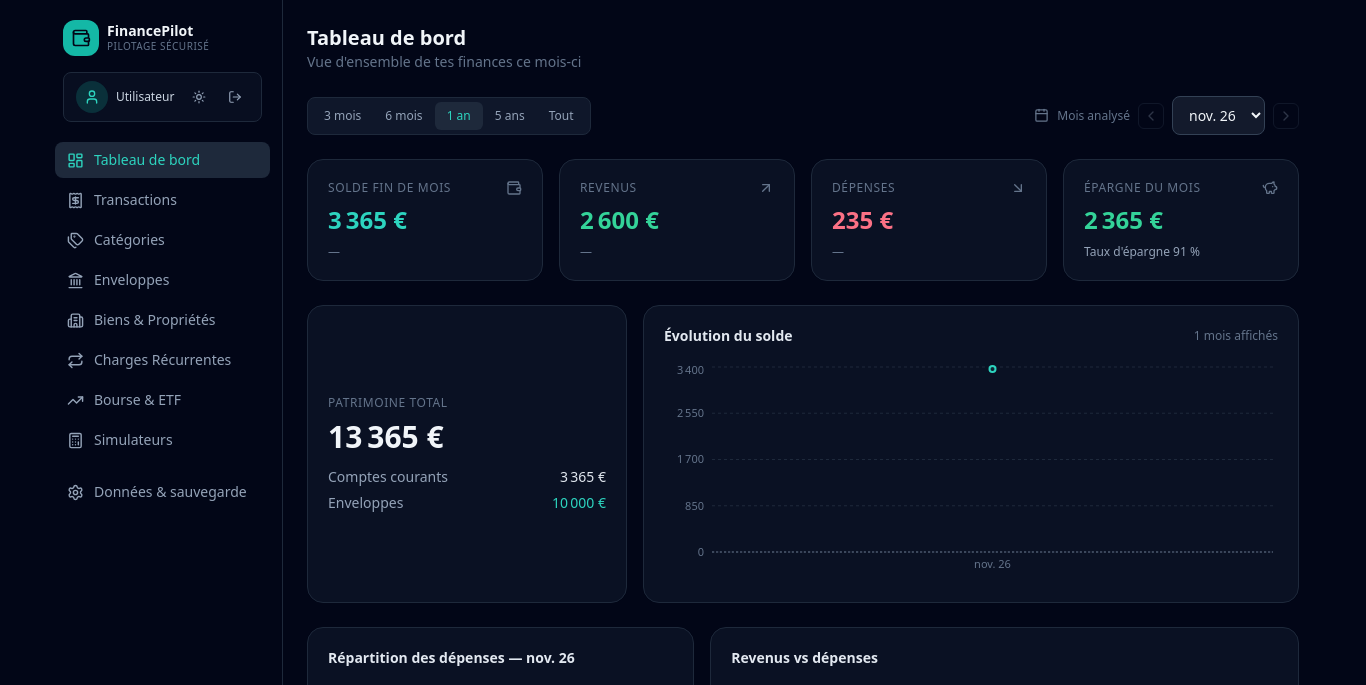
Test: catégories peuplées par l'API (objet au lieu d'un identifiant) › le filtre par catégorie des transactions fonctionne
Step 1. Click the button "Transactions" → coordinates (162, 200), box top-left (55, 182), bottom-right (270, 218)
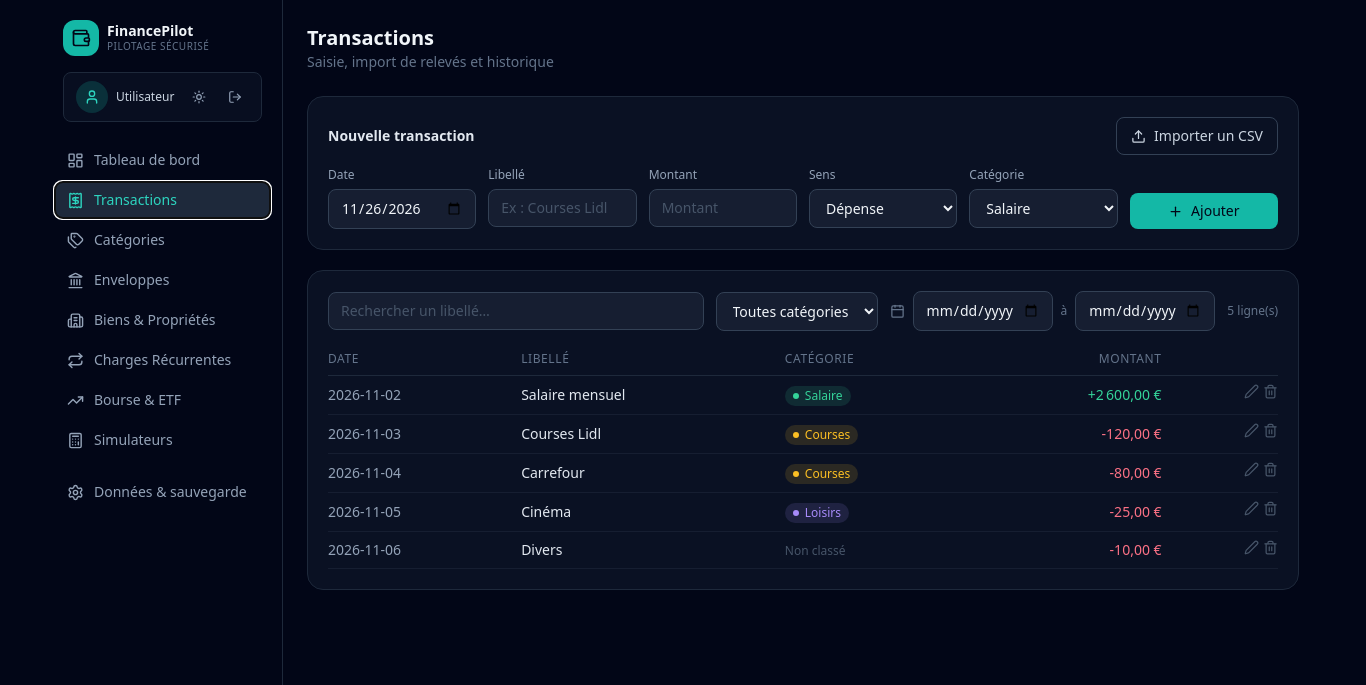
Step 2. Select "Courses" in the 3rd dropdown → coordinates (797, 311), box top-left (716, 292), bottom-right (878, 330)
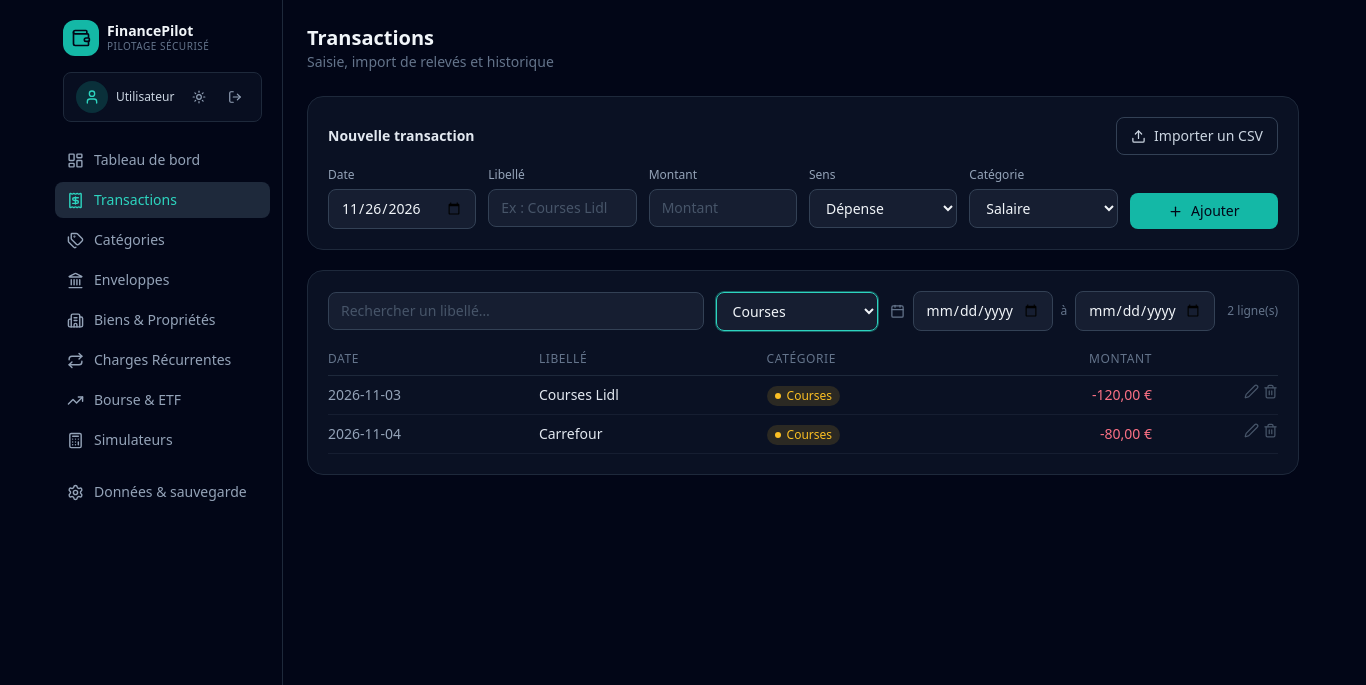
Expected: the text "Courses Lidl" is shown, top-left (539, 376), bottom-right (767, 414)
Expected: the text "Carrefour" is shown, top-left (539, 414), bottom-right (767, 454)
Expected: the text "Salaire mensuel" is gone
